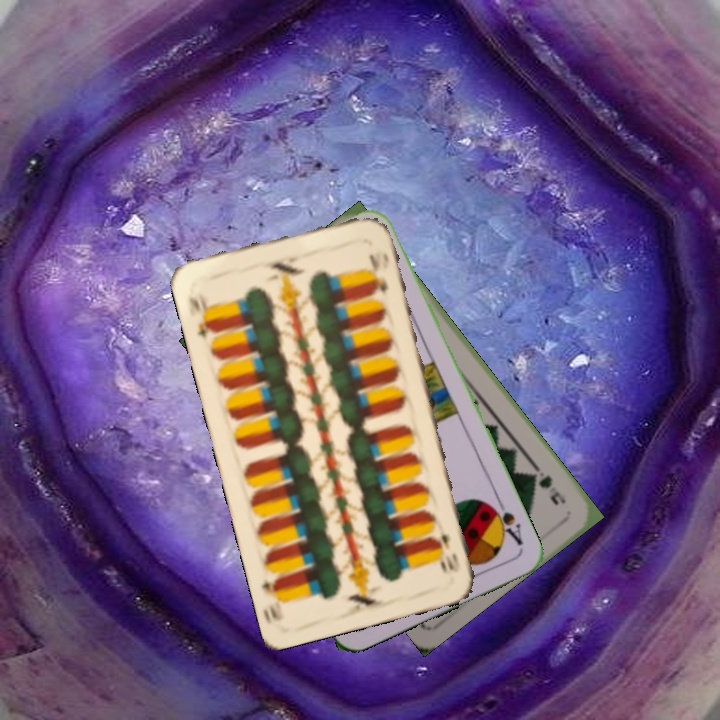E10: (184, 292, 218, 342), (436, 529, 462, 575)
G9: (526, 462, 569, 508)
SA: (484, 495, 526, 548)
